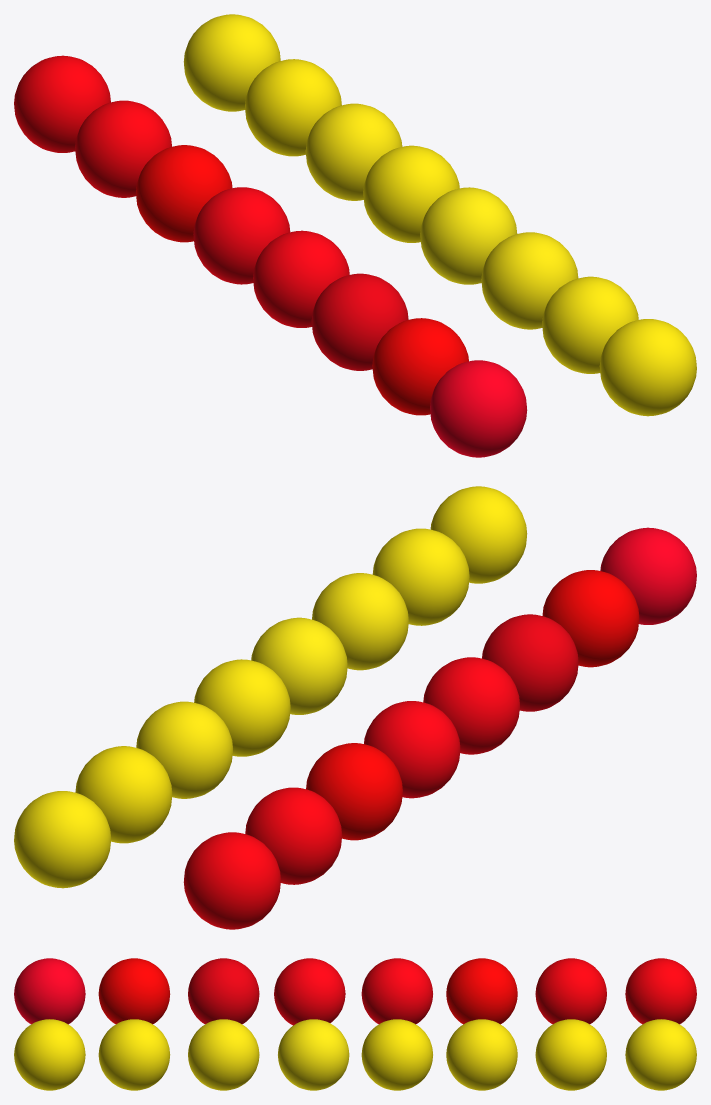
The model's file is spherematerials.glb.
3 renders of one model, top to bottom at view 1: azimuth 30°, elevation 25°; view 2: azimuth 150°, elevation 25°; view 3: azimuth 270°, elevation 25°, orthographic. The views are drawn at different scales.
Visible parts, largest first — view 1: Sphere.013, Sphere.002, Sphere.007, Sphere, Sphere.008, Sphere.006, Sphere.009, Sphere.001, Sphere.014, Sphere.010, Sphere.015, Sphere.012 (+4 smaller); view 2: Sphere.008, Sphere.007, Sphere.009, Sphere.006, Sphere.001, Sphere.003, Sphere.004, Sphere.012, Sphere.011, Sphere.015, Sphere.014, Sphere.010 (+4 smaller); view 3: Sphere, Sphere.003, Sphere.005, Sphere.004, Sphere.002, Sphere.007, Sphere.001, Sphere.006, Sphere.010, Sphere.012, Sphere.015, Sphere.008 (+4 smaller).
Boxes of the visible parts, left/top/right/bottom form: Sphere.013: left=430, top=360, right=527, bottom=457; Sphere.002: left=599, top=319, right=696, bottom=416; Sphere.007: left=183, top=14, right=280, bottom=111; Sphere: left=420, top=187, right=517, bottom=284; Sphere.008: left=14, top=55, right=110, bottom=152; Sphere.006: left=245, top=59, right=341, bottom=156; Sphere.009: left=75, top=100, right=171, bottom=197; Sphere.001: left=481, top=232, right=578, bottom=329; Sphere.014: left=311, top=273, right=408, bottom=370; Sphere.010: left=193, top=187, right=290, bottom=284; Sphere.015: left=253, top=230, right=349, bottom=327; Sphere.012: left=372, top=318, right=468, bottom=415; Sphere.008: left=183, top=832, right=280, bottom=929; Sphere.007: left=14, top=791, right=111, bottom=888; Sphere.009: left=245, top=787, right=342, bottom=884; Sphere.006: left=75, top=746, right=172, bottom=843; Sphere.001: left=312, top=573, right=408, bottom=670; Sphere.003: left=372, top=528, right=469, bottom=625; Sphere.004: left=136, top=701, right=232, bottom=798; Sphere.012: left=542, top=570, right=639, bottom=667; Sphere.011: left=306, top=743, right=402, bottom=840; Sphere.015: left=423, top=657, right=519, bottom=754; Sphere.014: left=482, top=614, right=578, bottom=711; Sphere.010: left=364, top=701, right=460, bottom=798; Sphere: left=278, top=1019, right=349, bottom=1090; Sphere.003: left=98, top=1019, right=170, bottom=1090; Sphere.005: left=361, top=1019, right=432, bottom=1090; Sphere.004: left=446, top=1019, right=517, bottom=1090; Sphere.002: left=14, top=1019, right=85, bottom=1090; Sphere.007: left=625, top=1019, right=696, bottom=1090; Sphere.001: left=188, top=1019, right=259, bottom=1090; Sphere.006: left=535, top=1019, right=606, bottom=1090; Sphere.010: left=361, top=958, right=432, bottom=1024; Sphere.012: left=98, top=958, right=170, bottom=1024; Sphere.015: left=274, top=958, right=345, bottom=1025; Sphere.008: left=625, top=958, right=696, bottom=1024.
Size of the model in its own units: 6.02 by 2 by 19.07.
